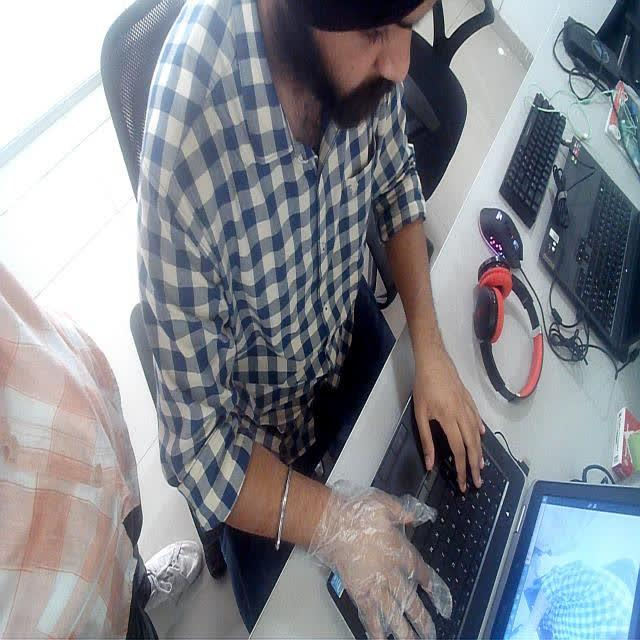with_gloves: (326, 471, 447, 640)
without_gloves: (397, 334, 515, 510)
